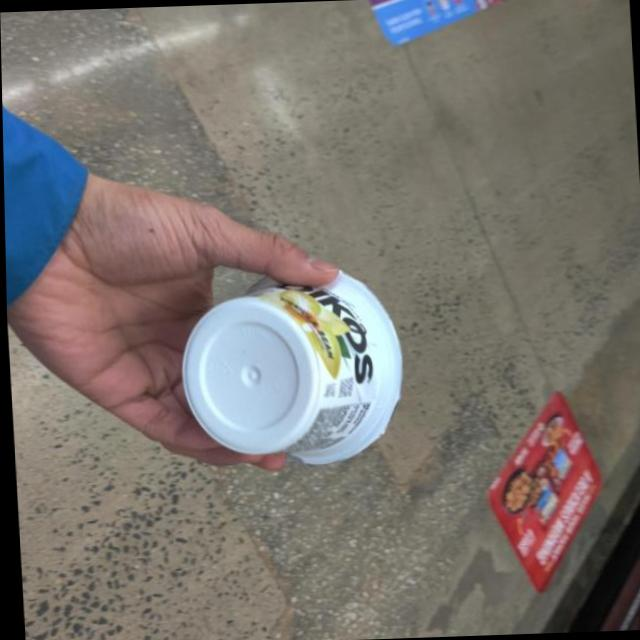Yogurt: (177, 258, 399, 493)
